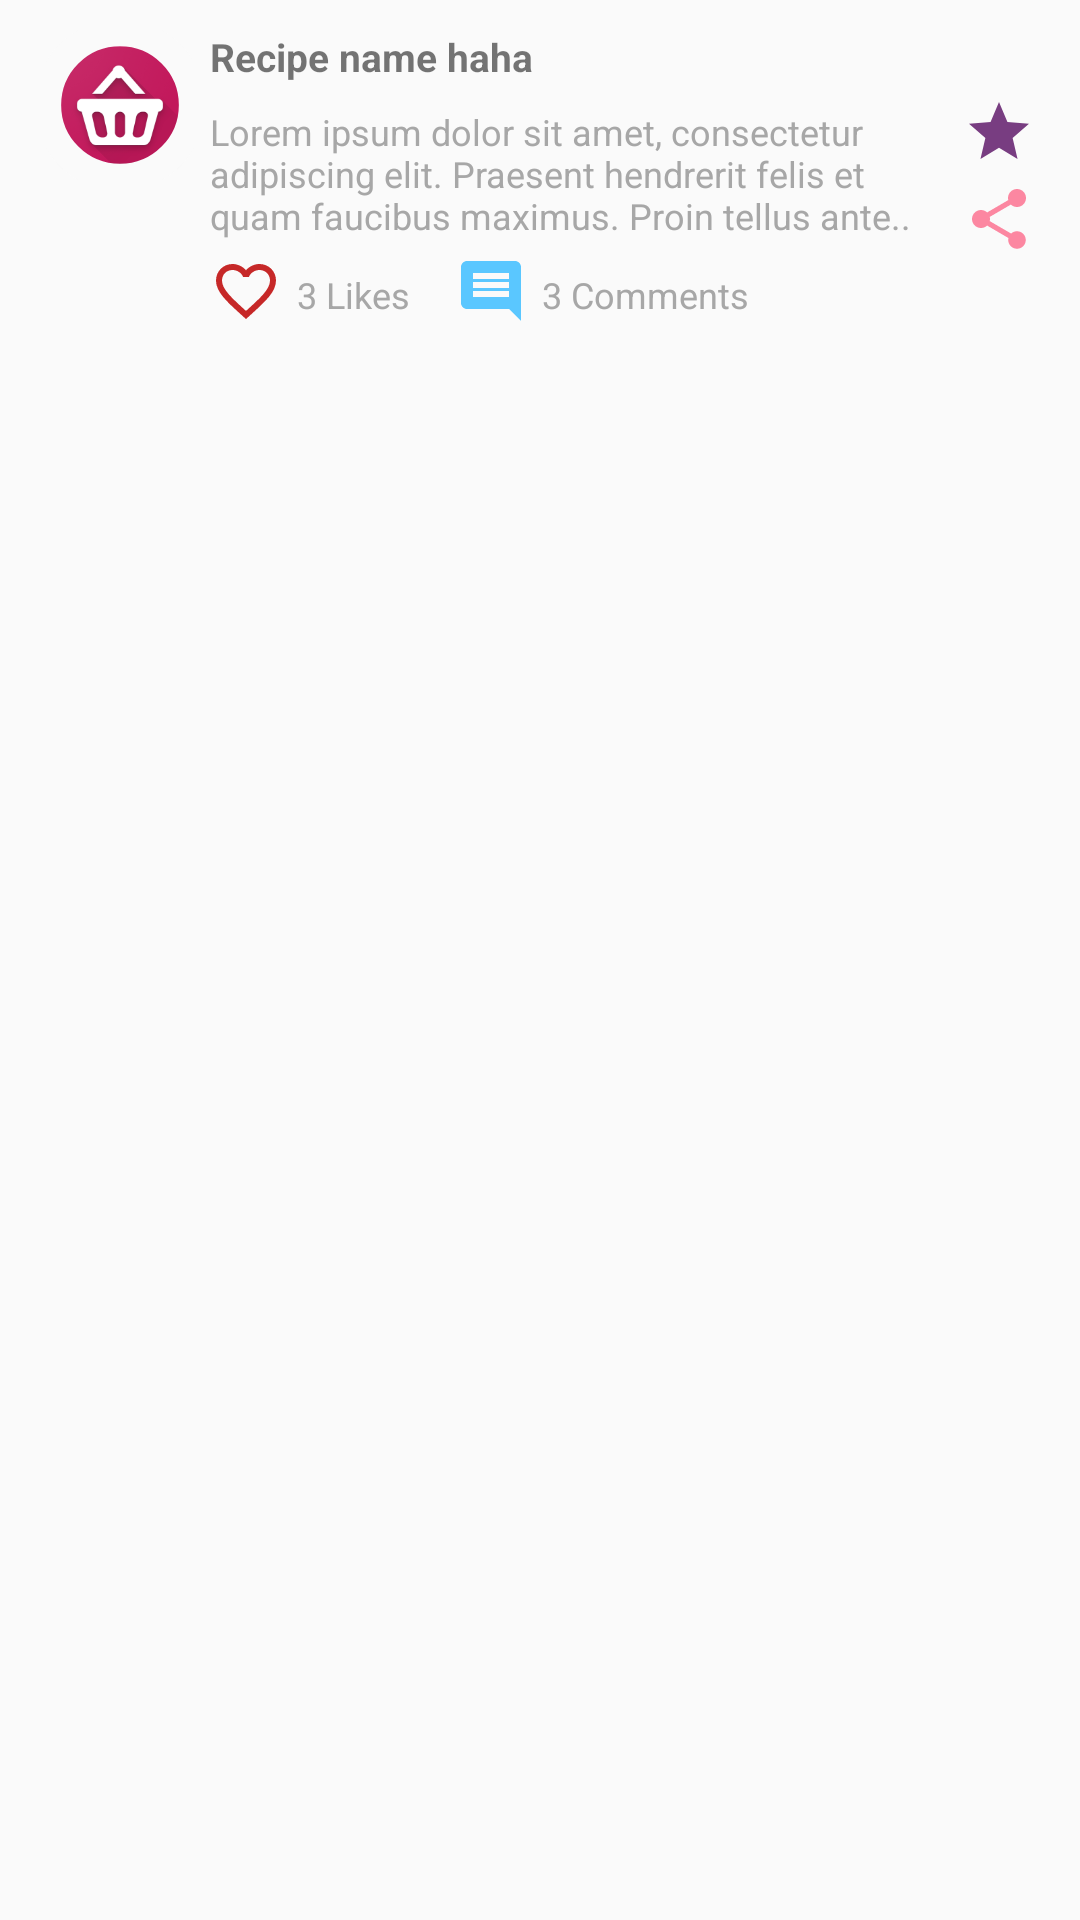

Icon bounding boxes for this 1080w x 1920h phone screenshot, format (x1, y1, x2, y2):
add like: (216, 264, 276, 319)
favorited: (969, 102, 1029, 159)
share: (972, 189, 1026, 249)
